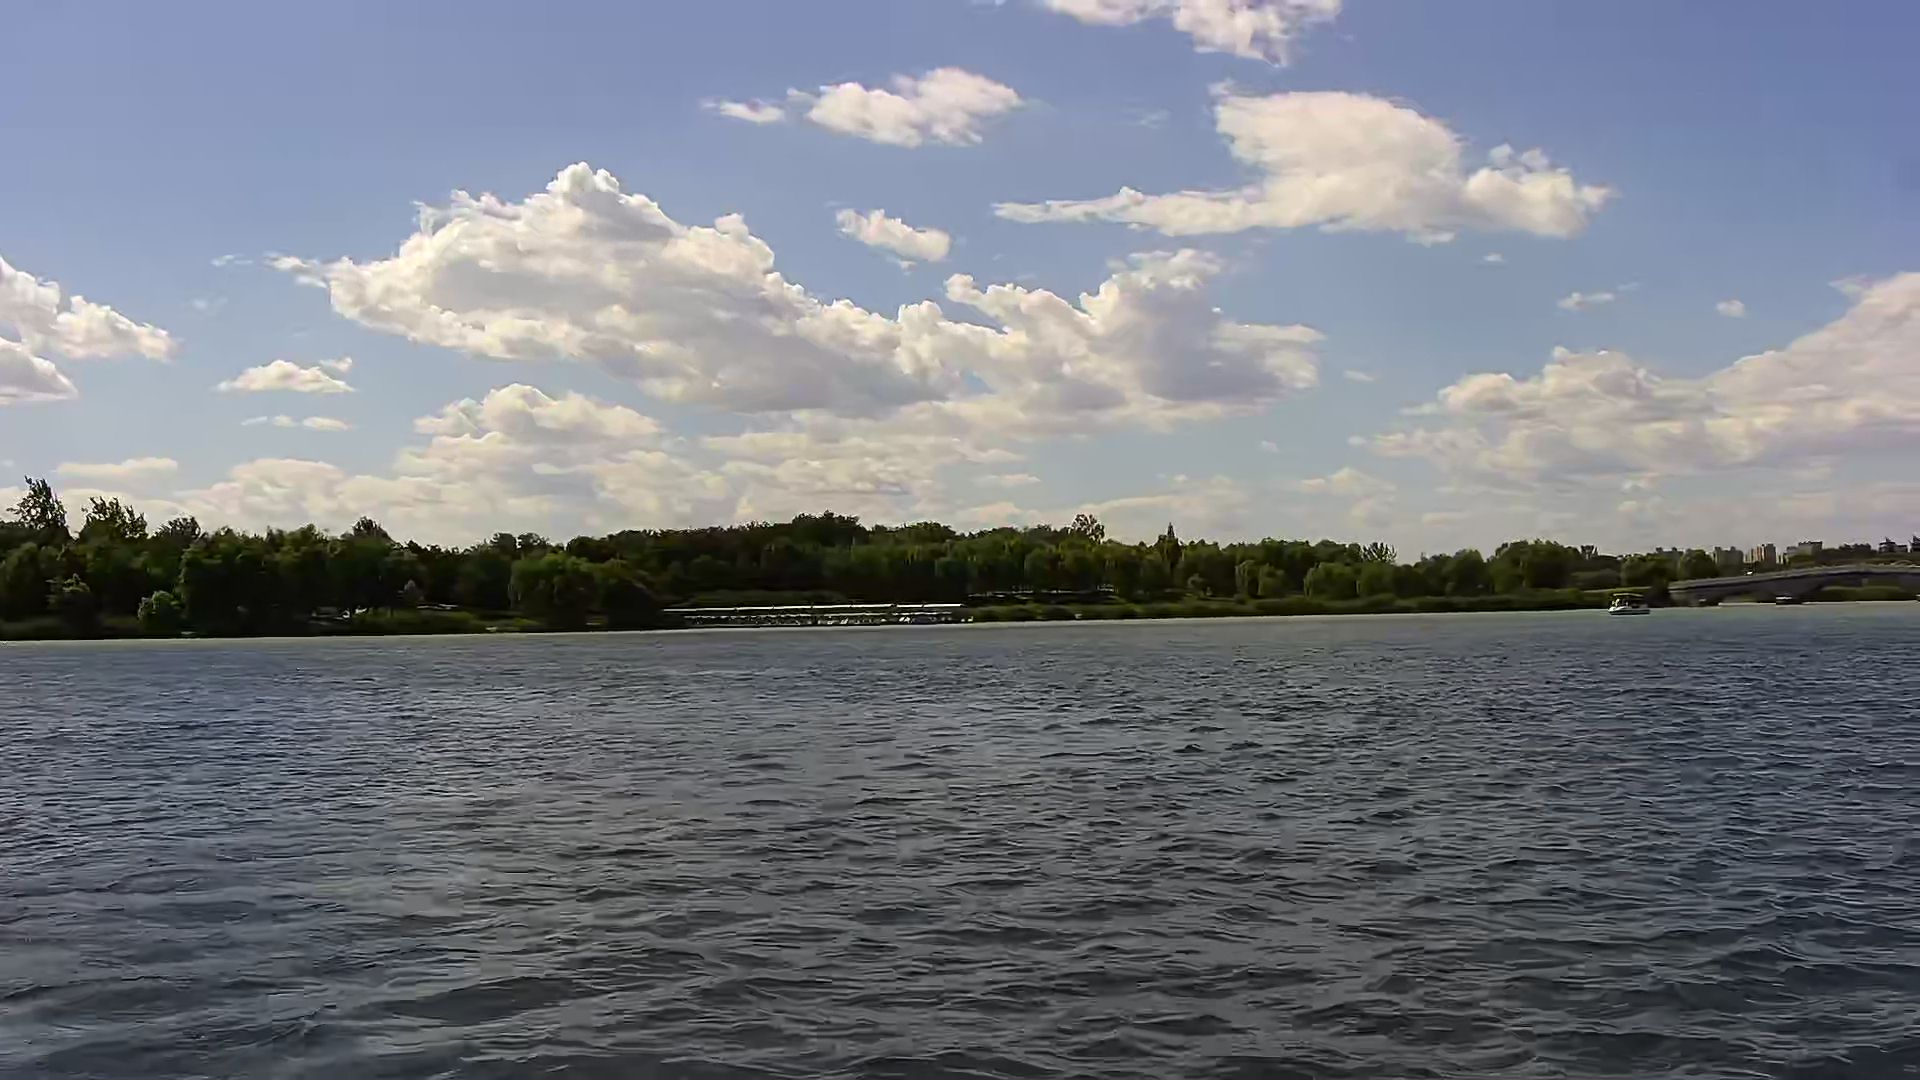boat: (1607, 591, 1654, 620)
bridge: (1668, 564, 1920, 607), (669, 603, 963, 626)
